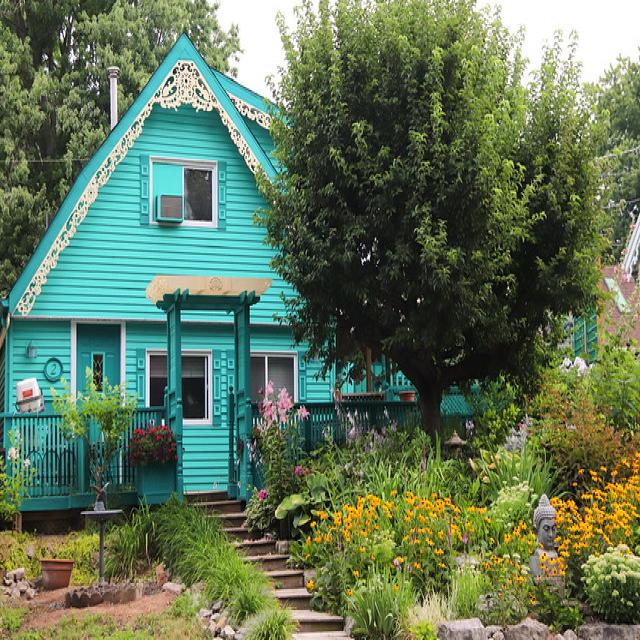building: (4, 35, 514, 508)
